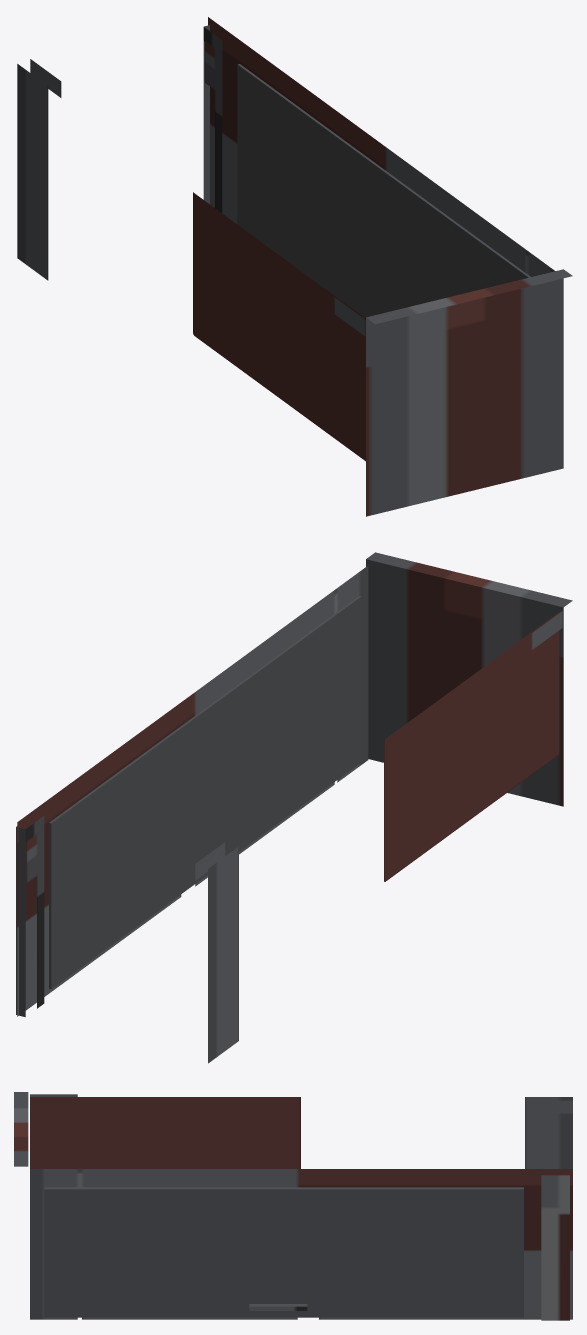
File: section-0.obj
3 views of the same model, one above another, from view 1: azimuth 30°, elevation 25°; view 2: azimuth 150°, elevation 25°; view 3: azimuth 270°, elevation 25° (orthographic). The views are drawn at different scales.
Bounding box in the file's own units: 0.641 × 0.5885 × 1.93.
